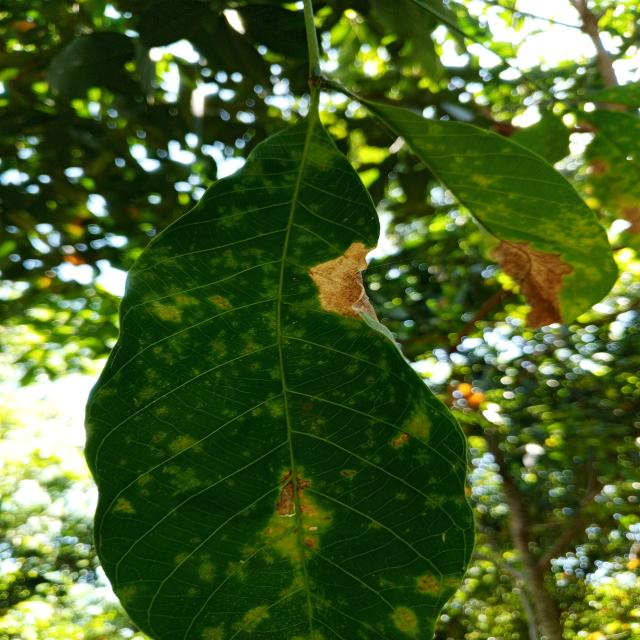Leaf-Blight: (489, 240, 574, 328), (306, 242, 378, 322)
